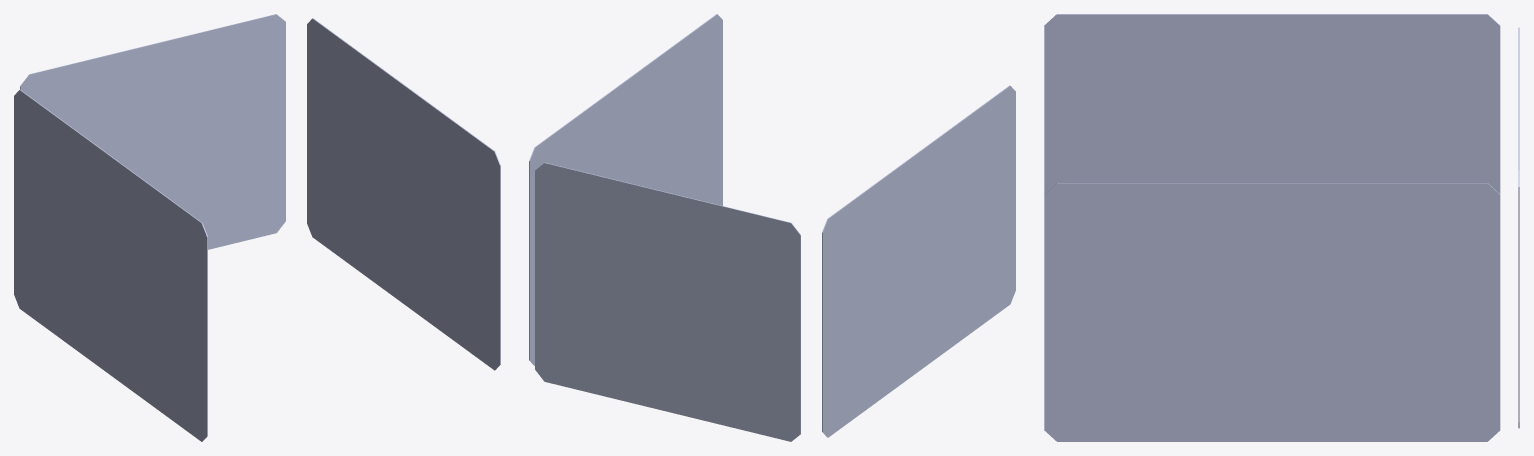
The model's file is walls.fbx.
3 renders of one model, left to right at view 1: azimuth 30°, elevation 25°; view 2: azimuth 150°, elevation 25°; view 3: azimuth 270°, elevation 25°, orthographic. The views are drawn at different scales.
Parts seen in each view (by area): view 1: Body_2, Body_1, Body_3; view 2: Body_3, Body_1, Body_2; view 3: Body_2, Body_1, Body_3.
Boxes of the visible parts, bbox=[...] form: Body_2: bbox=[307, 18, 500, 370]; Body_1: bbox=[14, 89, 207, 441]; Body_3: bbox=[20, 14, 285, 249]; Body_3: bbox=[535, 162, 800, 441]; Body_1: bbox=[822, 85, 1015, 437]; Body_2: bbox=[529, 14, 722, 365]; Body_2: bbox=[1044, 183, 1500, 441]; Body_1: bbox=[1044, 14, 1500, 193]; Body_3: bbox=[1518, 27, 1519, 428].
Bounding box in the file's own units: 3.12 × 3.7 × 2.22.
